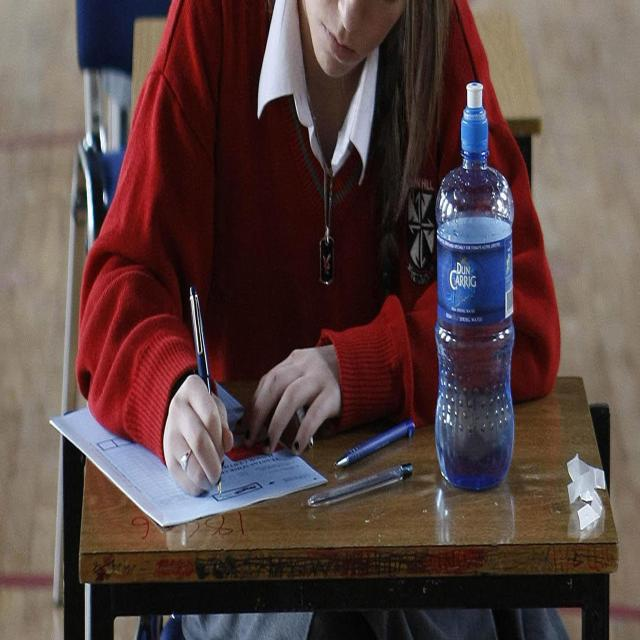plasticbottle: (424, 82, 527, 513)
plasticbottlecap: (448, 80, 504, 189)
